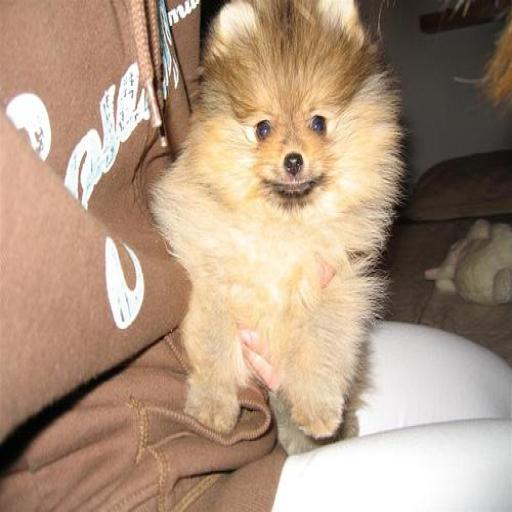dog_face: (206, 2, 367, 221)
